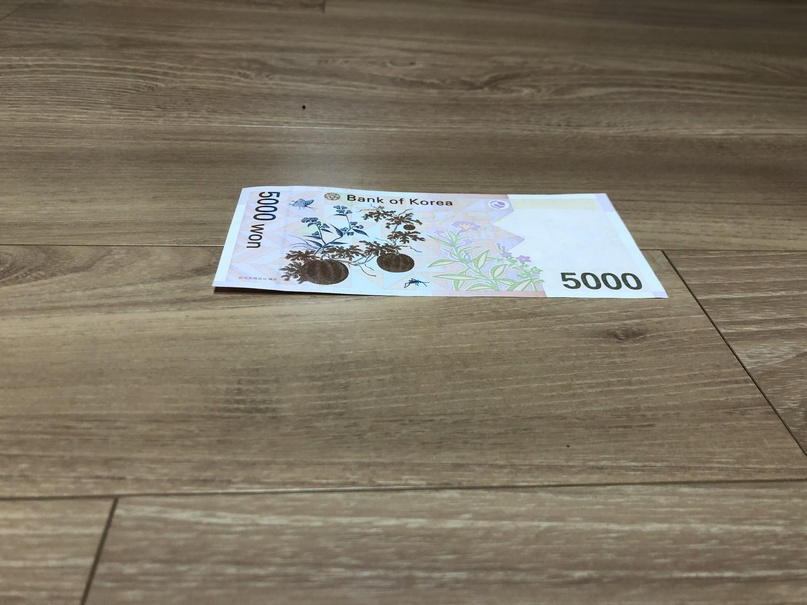5000won: (212, 185, 672, 298)
